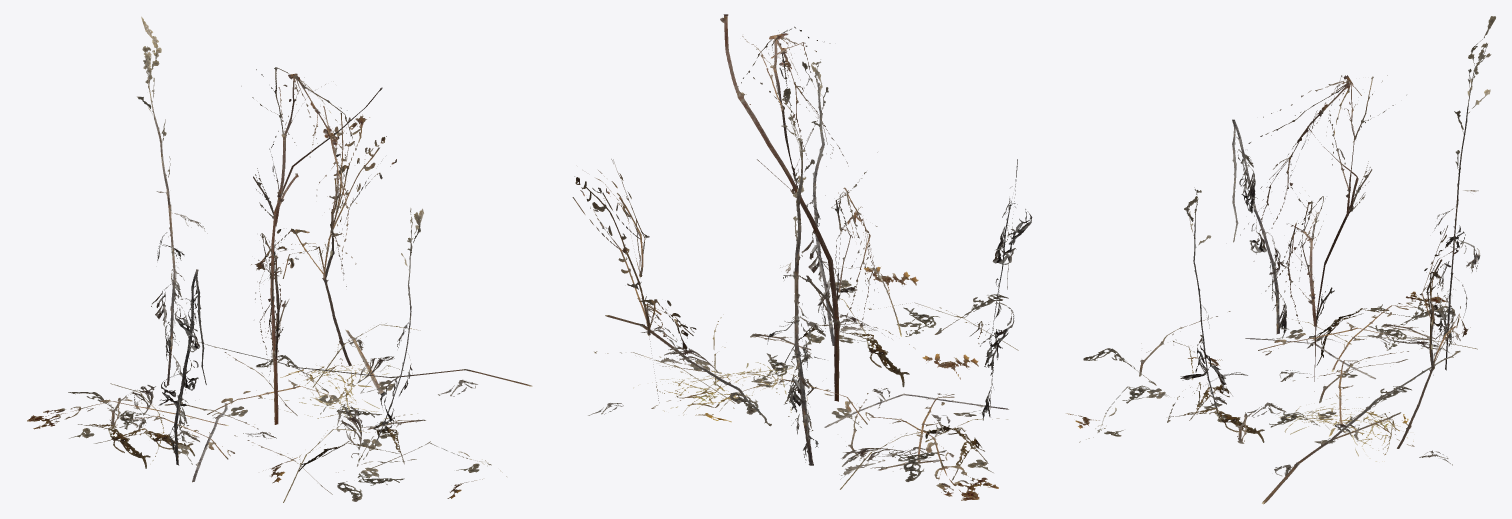
File: desert_reed_1_5.FBX
The picture shows the model from 3 angles, left to right: view 1: azimuth 30°, elevation 25°; view 2: azimuth 150°, elevation 25°; view 3: azimuth 270°, elevation 25°; orthographic projection. The views are drawn at different scales.
Visible parts, largest first — view 1: desert_reed_1_5; view 2: desert_reed_1_5; view 3: desert_reed_1_5.
Boxes of the visible parts, x1,y1,x2,y2 form: desert_reed_1_5: (27, 16, 532, 502); desert_reed_1_5: (572, 14, 1032, 500); desert_reed_1_5: (1066, 16, 1495, 504).
Bounding box in the file's own units: 54.65 × 43.51 × 46.25.
Materials: 1 (1 with a texture image).
